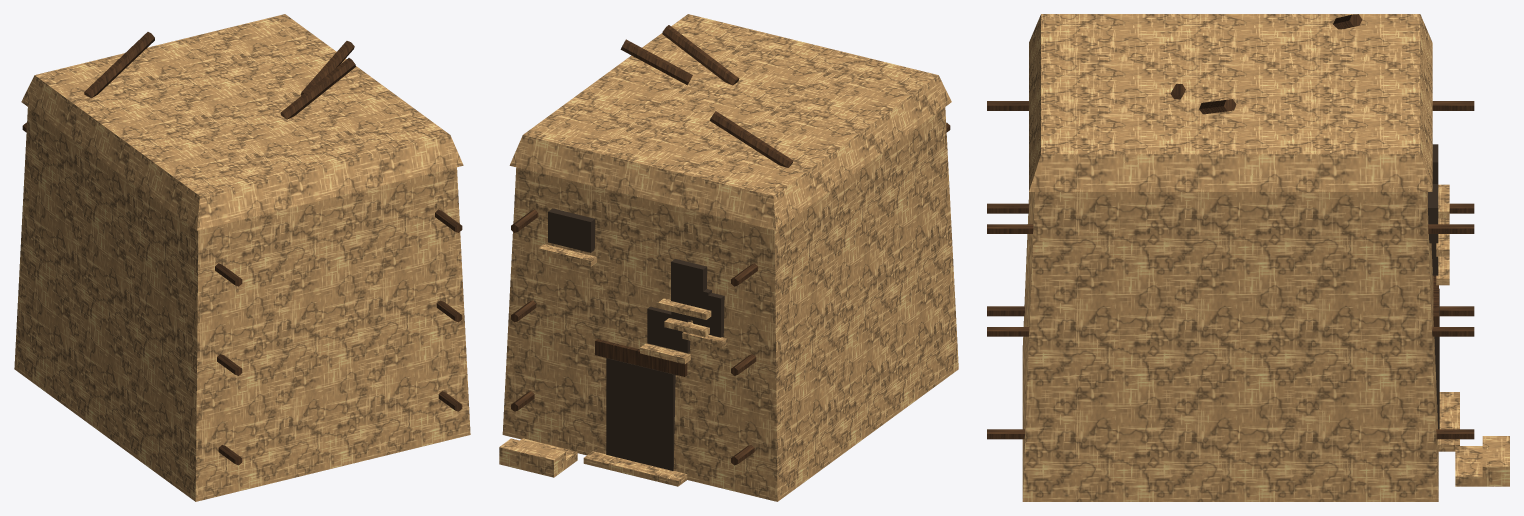
File: mali_house_v0.glb
The picture shows the model from 3 angles, left to right: view 1: azimuth 30°, elevation 25°; view 2: azimuth 150°, elevation 25°; view 3: azimuth 270°, elevation 25°; orthographic projection. The views are drawn at different scales.
Visible parts, largest first — view 1: mali_house_v0; view 2: mali_house_v0; view 3: mali_house_v0.
Part boxes in pixels (x1,y1,x2,y2): mali_house_v0: (14, 14, 470, 501); mali_house_v0: (499, 14, 958, 501); mali_house_v0: (987, 14, 1509, 501).
Bounding box in the file's own units: 6.01 × 7.09 × 8.63.
Materials: 3 (2 with a texture image).
